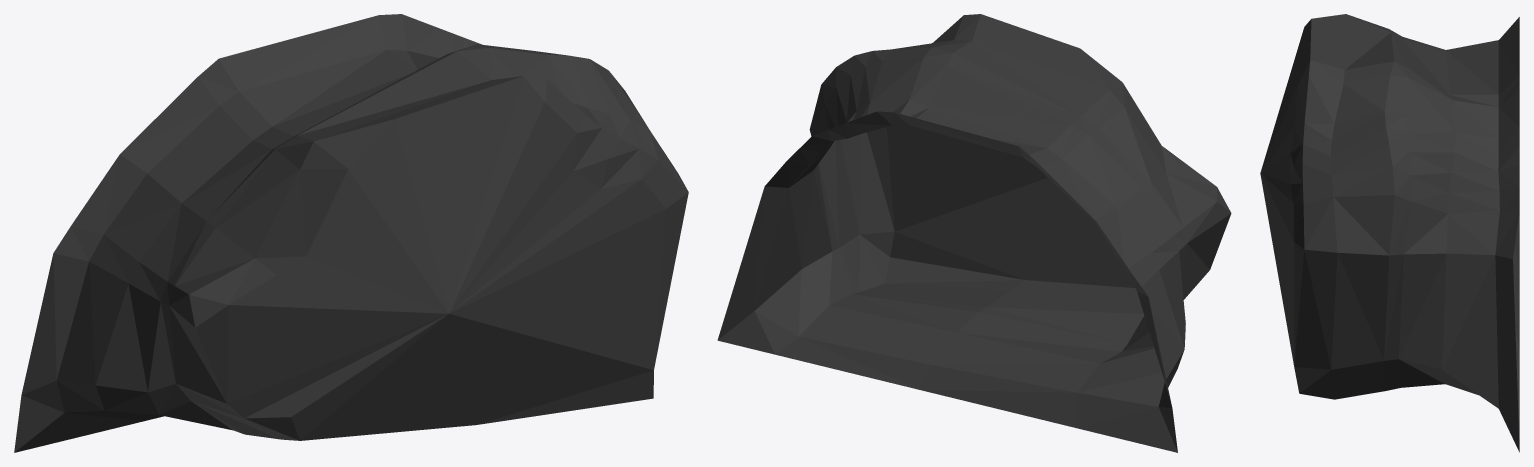
Rendered from Cave_end_LOD_1.fbx.
The picture shows the model from 3 angles, left to right: view 1: azimuth 30°, elevation 25°; view 2: azimuth 150°, elevation 25°; view 3: azimuth 270°, elevation 25°; orthographic projection. The views are drawn at different scales.
Parts seen in each view (by area): view 1: pCylinder10; view 2: pCylinder10; view 3: pCylinder10.
Boxes of the visible parts, left/top/right/bottom form: pCylinder10: left=14, top=14, right=688, bottom=452; pCylinder10: left=717, top=14, right=1231, bottom=452; pCylinder10: left=1260, top=14, right=1519, bottom=452.
Size of the model in its own units: 8.81 by 5.37 by 4.08.
